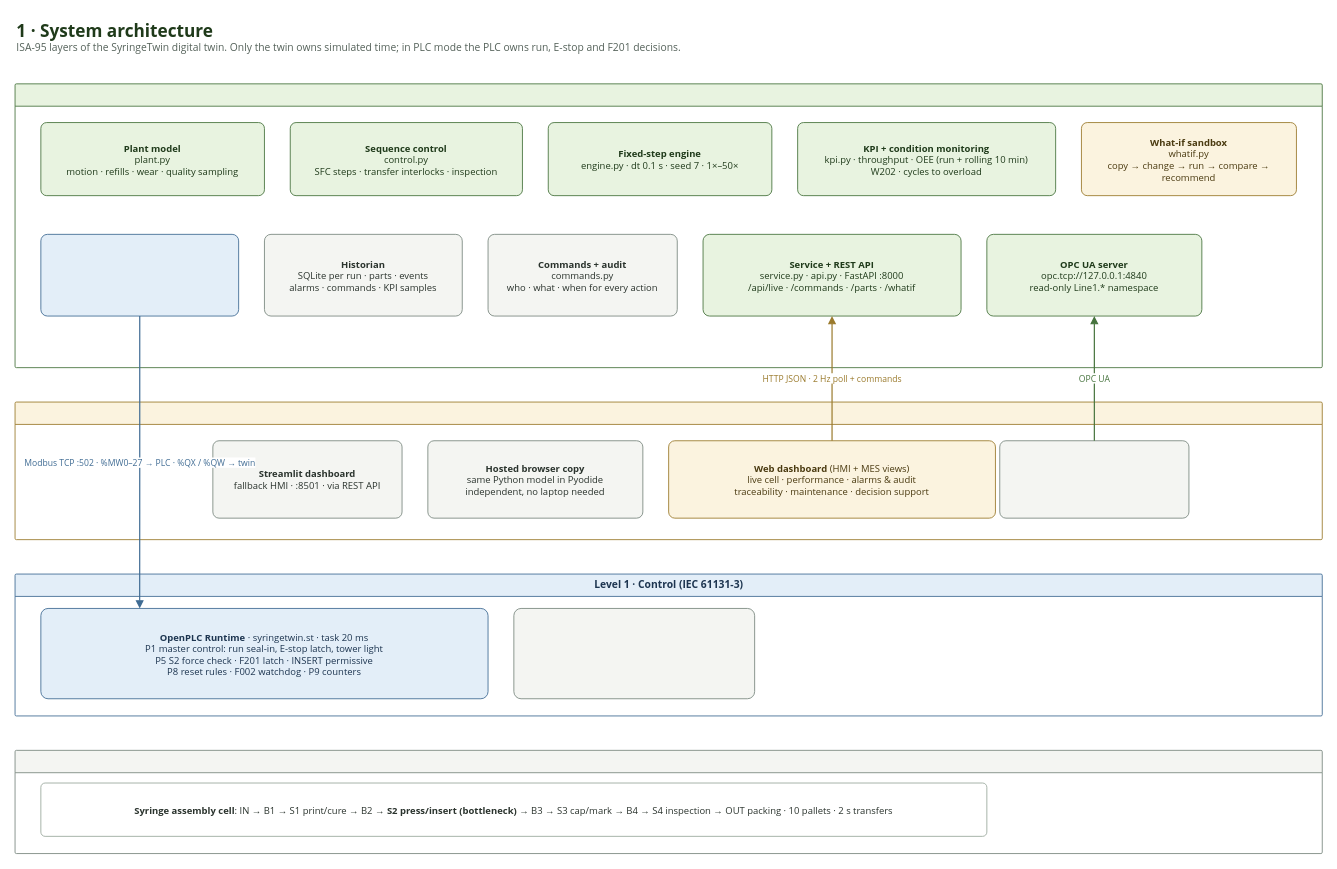
Image size: 1337x869. Some labels were removed from this diagram. The box of each missing label's shape, as (x1, y1, x2, y2) in pixels:
Fallback path GX Works3 + GT Designer3 same labels · standalone simulators: (513, 608, 755, 699)
Level 0 · Simulated process (modelled by plant.py): (14, 749, 1322, 854)
Level 2 · Supervision and operation: (14, 401, 1322, 540)
Level 3 · MES / digital twin (Python, twin/): (14, 83, 1322, 368)
PLC bridge plc_bridge.py · Modbus TCP client 20 ms exchange · watchdog F002: (40, 233, 239, 316)
UaExpert OPC UA client · browse / trend: (999, 440, 1189, 518)
